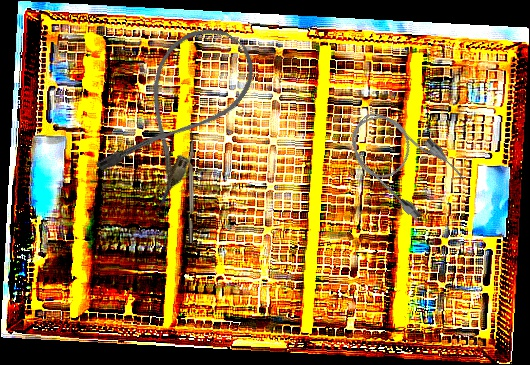Cannula: (89, 10, 269, 213), (336, 95, 469, 226)
Chopper: (182, 126, 196, 244)
